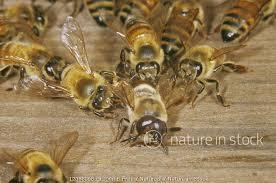worker-bee: (49, 16, 119, 117), (100, 0, 164, 82), (175, 44, 246, 106), (0, 34, 64, 86), (216, 0, 275, 43)
